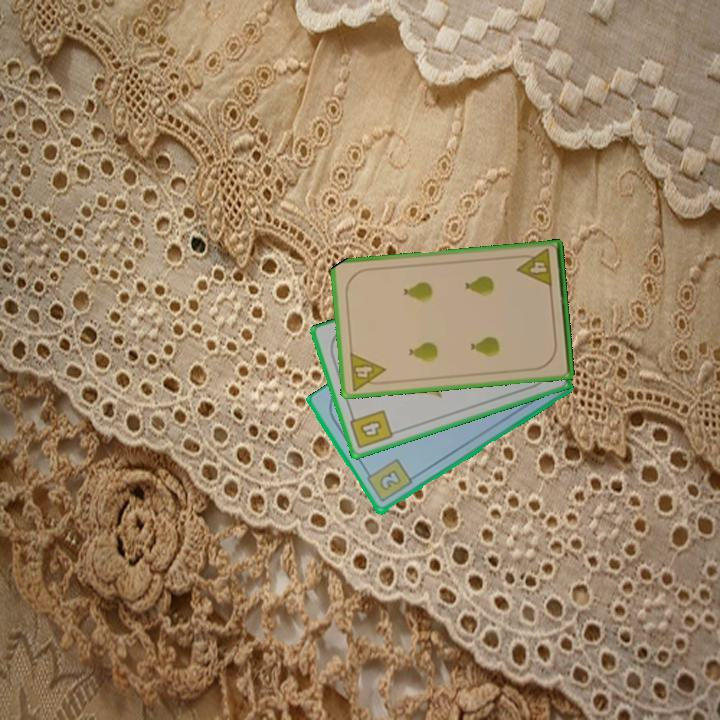2b: (361, 456, 415, 506)
4b: (346, 407, 396, 452)
4p: (346, 349, 389, 393), (513, 246, 555, 290)
